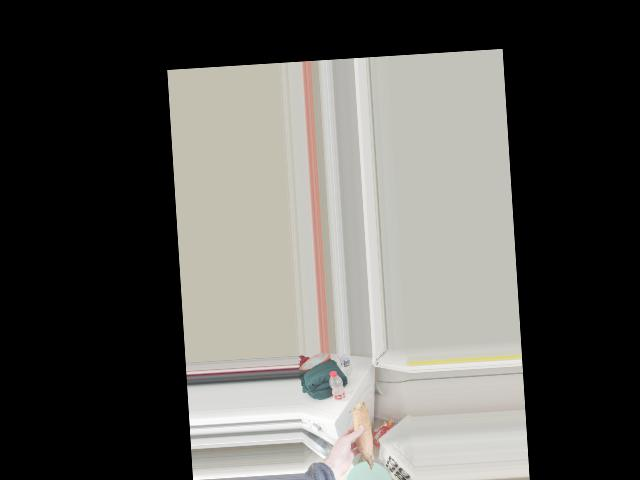sweet_potato: (349, 407, 373, 466)
